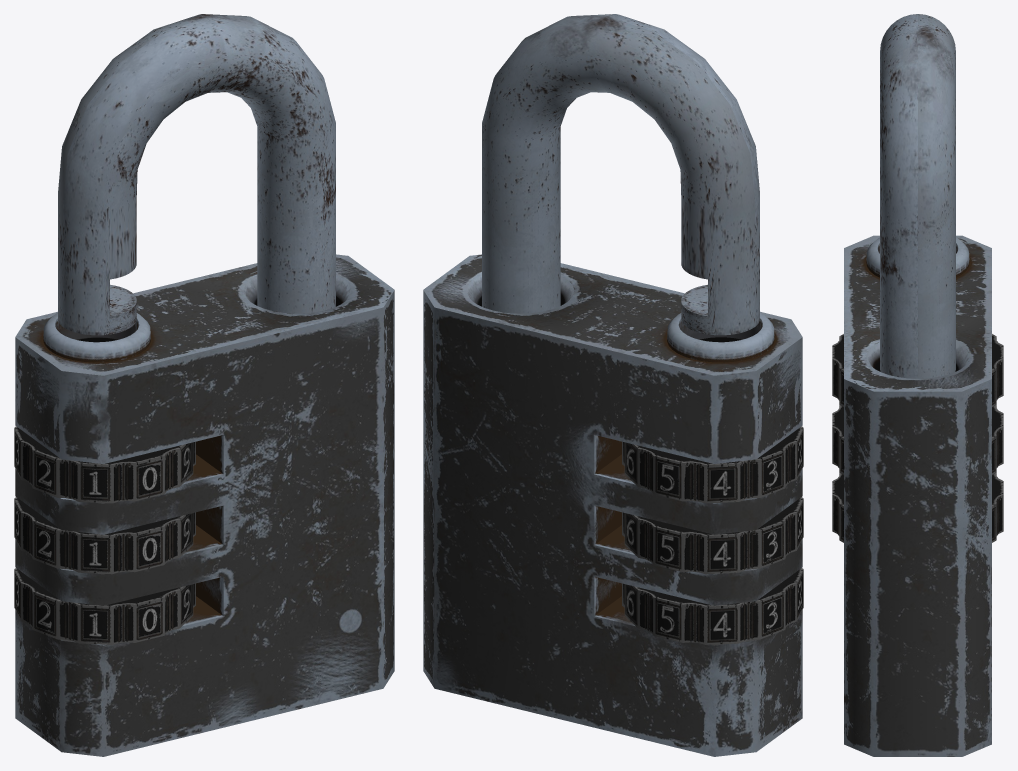
The model's file is padlock.glb.
3 renders of one model, left to right at view 1: azimuth 30°, elevation 25°; view 2: azimuth 150°, elevation 25°; view 3: azimuth 270°, elevation 25°, orthographic. The views are drawn at different scales.
Parts seen in each view (by area): view 1: BaseLP, BaseLP.002, BaseLP.001, BaseLP.003, BaseLP.004; view 2: BaseLP, BaseLP.002, BaseLP.001, BaseLP.003, BaseLP.004; view 3: BaseLP, BaseLP.002, BaseLP.003, BaseLP.001, BaseLP.004.
Boxes of the visible parts, bbox=[...] form: BaseLP: bbox=[15, 254, 394, 756]; BaseLP.002: bbox=[58, 14, 335, 335]; BaseLP.001: bbox=[14, 497, 195, 574]; BaseLP.003: bbox=[14, 426, 195, 503]; BaseLP.004: bbox=[14, 568, 195, 644]; BaseLP: bbox=[423, 254, 802, 756]; BaseLP.002: bbox=[482, 14, 759, 335]; BaseLP.001: bbox=[622, 497, 803, 574]; BaseLP.003: bbox=[622, 426, 803, 503]; BaseLP.004: bbox=[622, 568, 803, 644]; BaseLP: bbox=[844, 235, 991, 756]; BaseLP.002: bbox=[880, 14, 955, 378]; BaseLP.003: bbox=[832, 334, 1003, 406]; BaseLP.001: bbox=[832, 405, 1003, 474]; BaseLP.004: bbox=[832, 473, 1003, 542].
Size of the model in its own units: 0.2278 by 0.4275 by 0.1022.
1 material, 1 textured.
